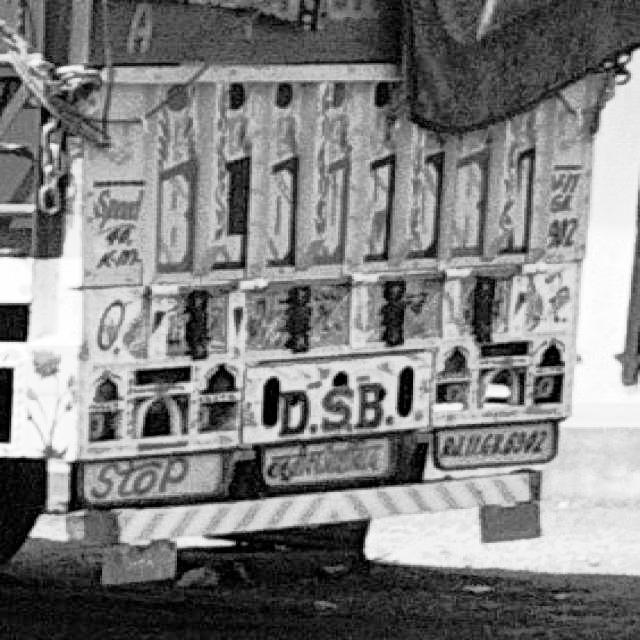HCV: (10, 6, 640, 572)
